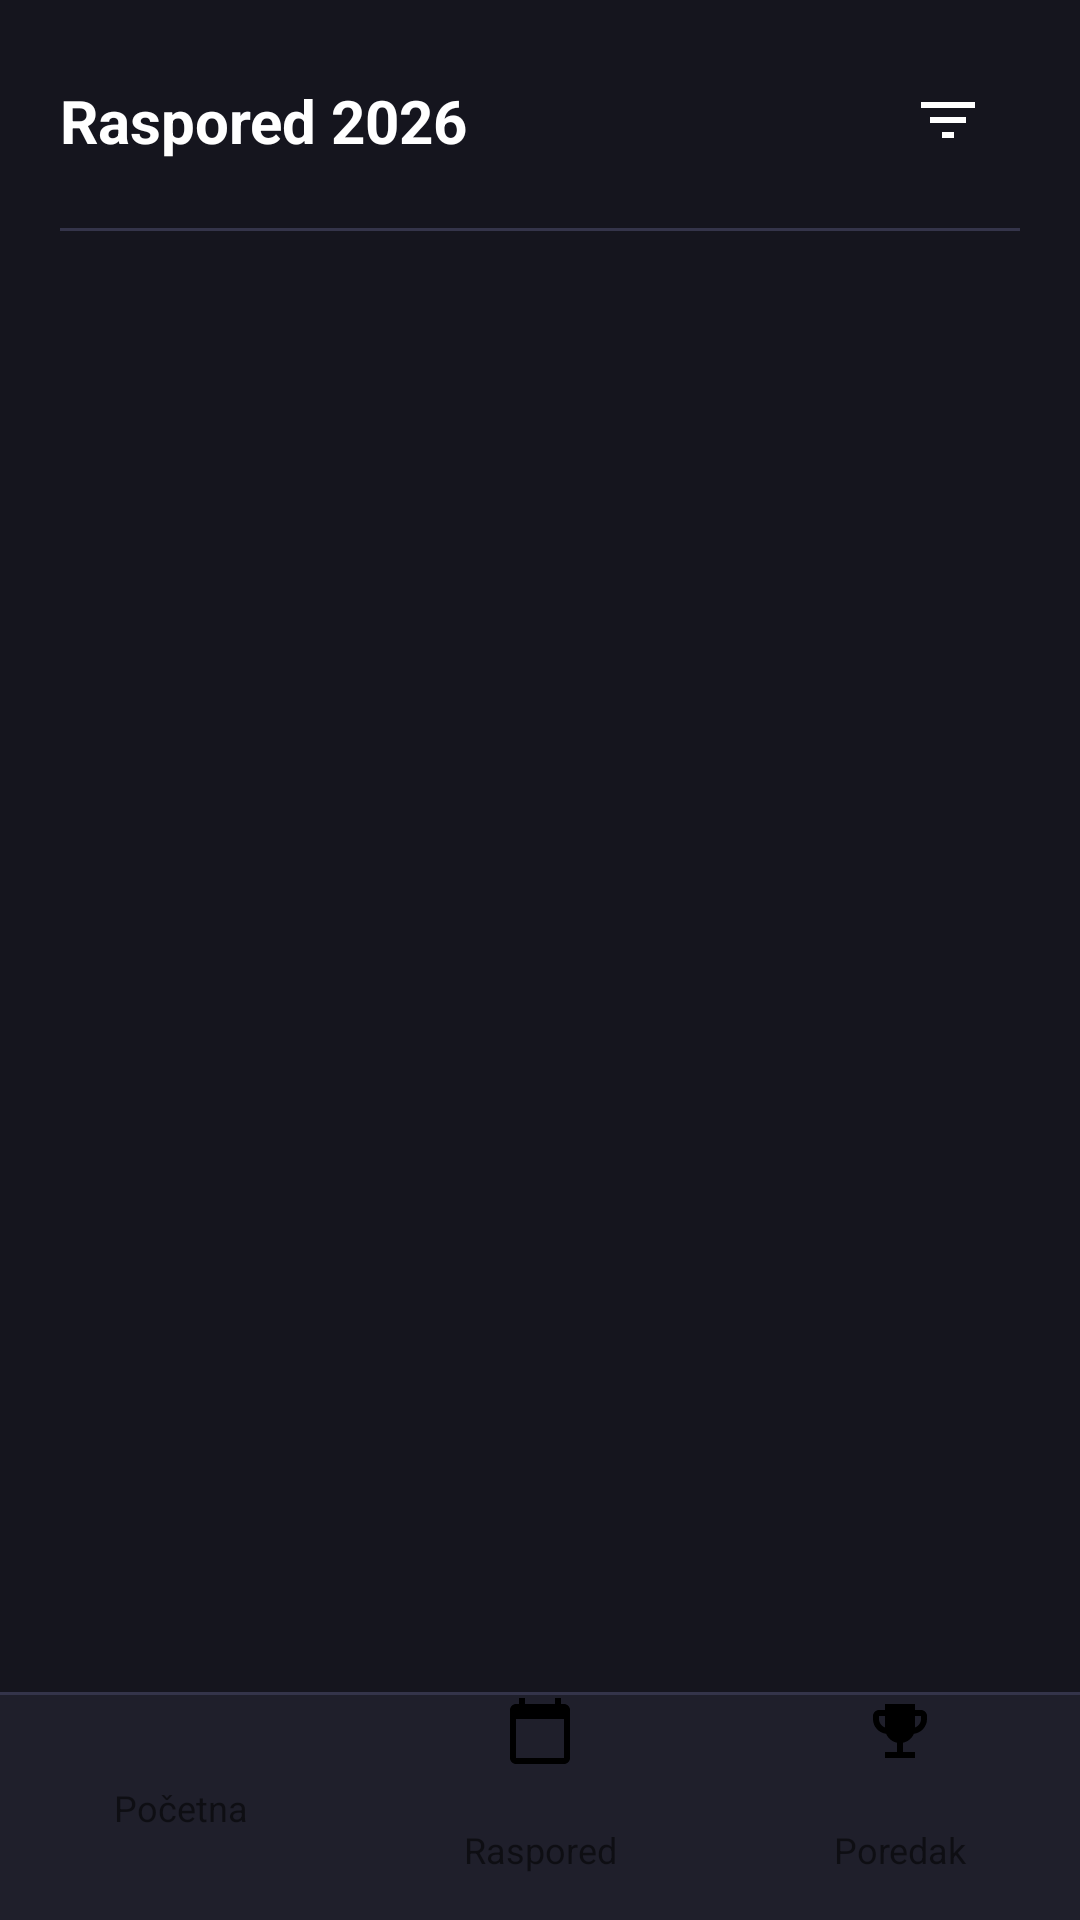

Named icons in this screenshot (1080*1920) and their bounding boxes, (x1, y1, x2, y2):
Filter: (921, 102, 975, 138)
